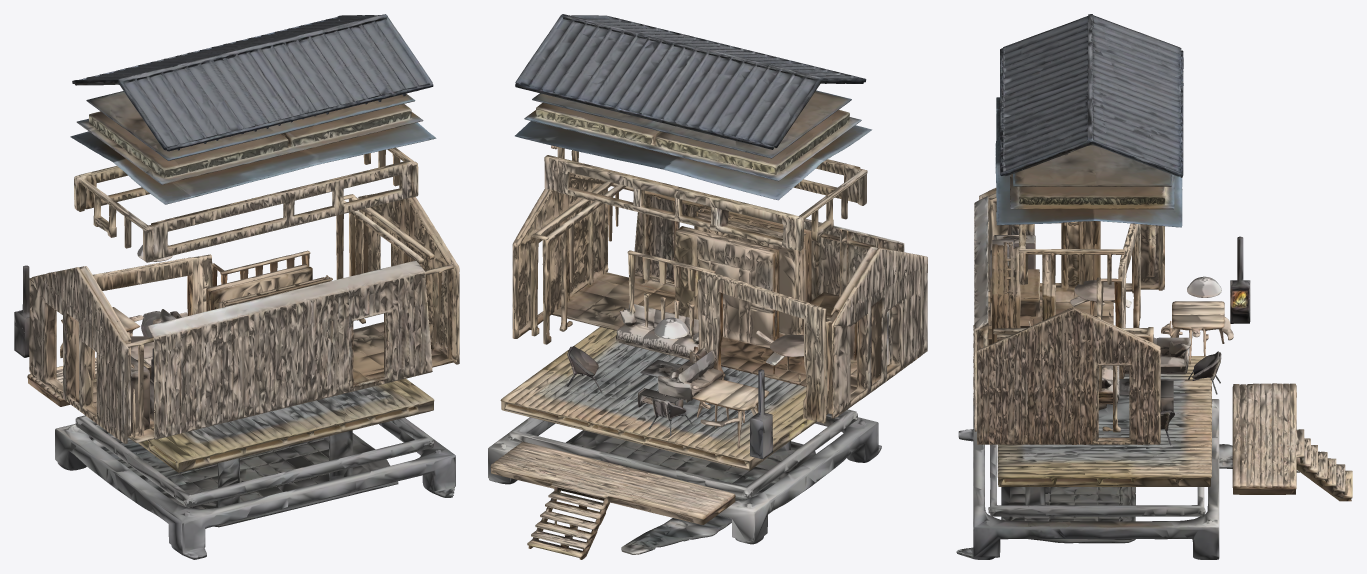
Rendered from cottage.glb.
3 views of the same model, side by side, from view 1: azimuth 30°, elevation 25°; view 2: azimuth 150°, elevation 25°; view 3: azimuth 270°, elevation 25° (orthographic). The views are drawn at different scales.
Parts seen in each view (by area): view 1: layer_walls_interior, layer_foundation, layer_roof, layer_truss, layer_upper, layer_floors; view 2: layer_walls_interior, layer_foundation, layer_roof, layer_truss, layer_floors, layer_upper; view 3: layer_foundation, layer_walls_interior, layer_roof, layer_truss, layer_floors, layer_upper.
Part boxes in pixels (box(x1,y1,x2,y2)): layer_walls_interior: box(14, 188, 459, 434); layer_foundation: box(27, 357, 455, 559); layer_roof: box(72, 14, 433, 151); layer_truss: box(70, 91, 436, 204); layer_upper: box(74, 147, 418, 262); layer_floors: box(14, 311, 459, 443); layer_walls_interior: box(512, 172, 927, 435); layer_foundation: box(488, 327, 881, 559); layer_roof: box(515, 14, 866, 149); layer_truss: box(515, 90, 871, 200); layer_floors: box(512, 262, 927, 459); layer_upper: box(544, 145, 867, 250); layer_foundation: box(956, 356, 1352, 559); layer_walls_interior: box(973, 188, 1250, 436); layer_roof: box(1000, 14, 1183, 177); layer_truss: box(995, 97, 1182, 227); layer_floors: box(973, 279, 1250, 445); layer_upper: box(1018, 224, 1155, 284).
Size of the model in its own units: 0.7926 by 0.9789 by 0.8446.
Materials: 1 (1 with a texture image).
